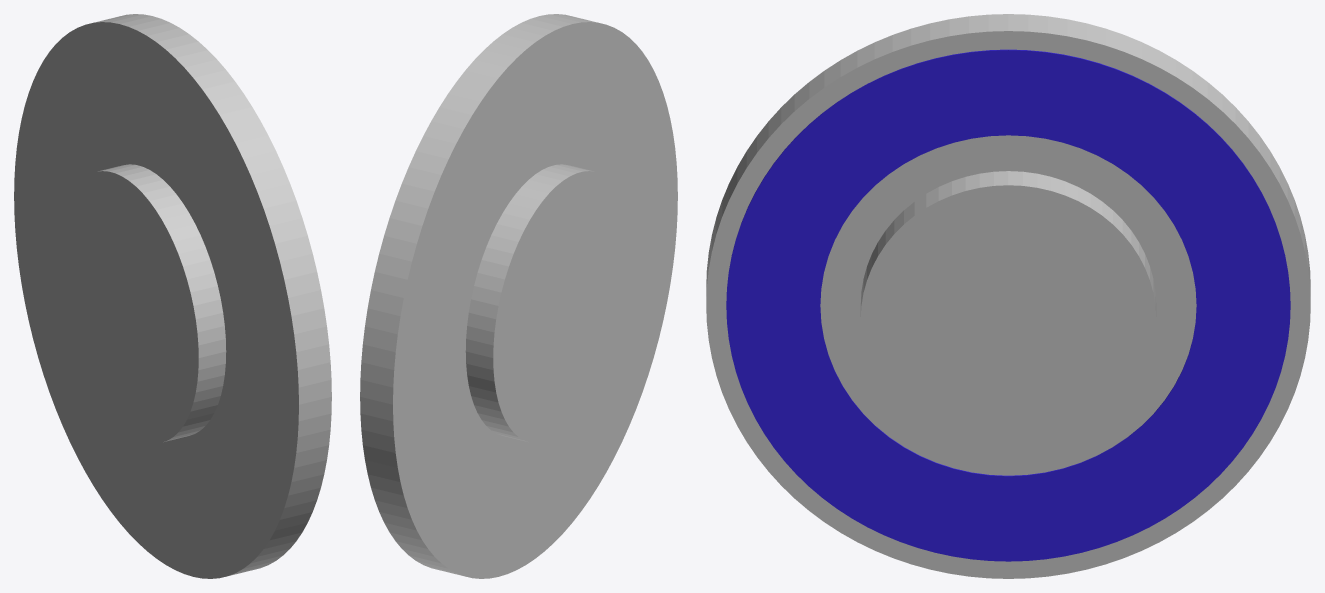
File: brake_disc_overheated.obj
3 views of the same model, side by side, from view 1: azimuth 30°, elevation 25°; view 2: azimuth 150°, elevation 25°; view 3: azimuth 270°, elevation 25° (orthographic). The views are drawn at different scales.
Parts seen in each view (by area): view 1: brake_disc_overheated; view 2: brake_disc_overheated; view 3: brake_disc_overheated.
Boxes of the visible parts, box(x1,y1,x2,y2) form: brake_disc_overheated: box(14, 14, 331, 578); brake_disc_overheated: box(360, 14, 677, 578); brake_disc_overheated: box(706, 14, 1310, 578).
Size of the model in its own units: 0.16 by 0.9 by 0.9.
